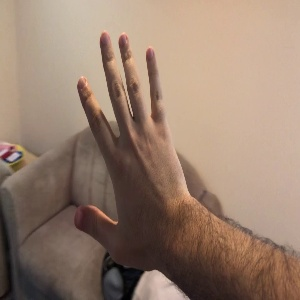hand: (75, 32, 190, 258)
